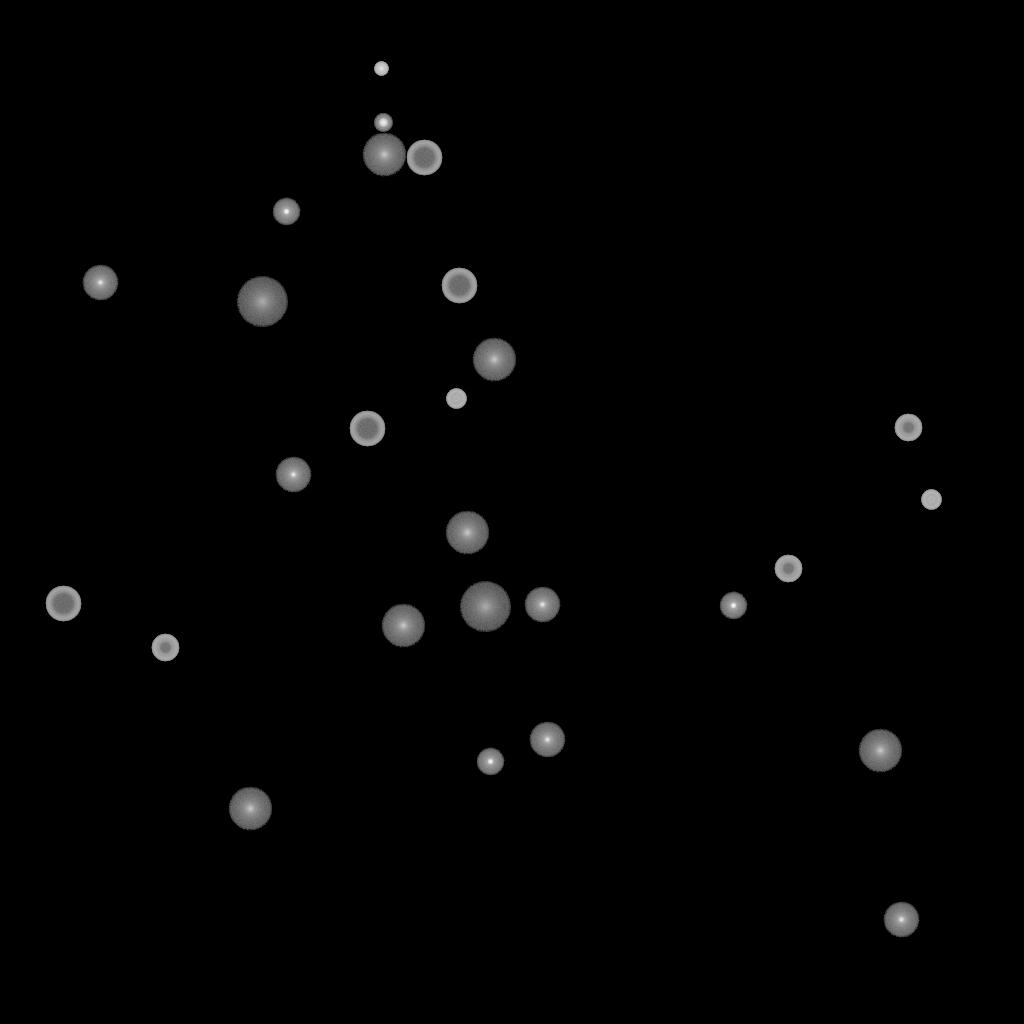depth:-10: (719, 592, 747, 620), (272, 198, 300, 226), (476, 748, 504, 776)
depth:-20: (374, 114, 392, 132)
depth:-30: (374, 62, 388, 76)
depth:-40: (921, 490, 941, 510), (446, 389, 466, 409)
depth:-50: (894, 414, 922, 442), (151, 634, 179, 662), (774, 555, 802, 583)
depth:-60: (441, 268, 477, 304), (406, 140, 442, 176), (349, 411, 385, 447), (45, 586, 81, 622)
depth:0: (524, 587, 560, 623), (275, 457, 311, 493), (529, 722, 565, 758), (82, 265, 118, 301), (883, 902, 919, 938)
depth:10: (228, 787, 272, 831), (472, 338, 516, 382), (858, 729, 902, 773), (381, 604, 425, 648), (445, 511, 489, 555), (362, 133, 406, 177)
depth:20: (459, 582, 511, 632), (236, 277, 288, 327)
